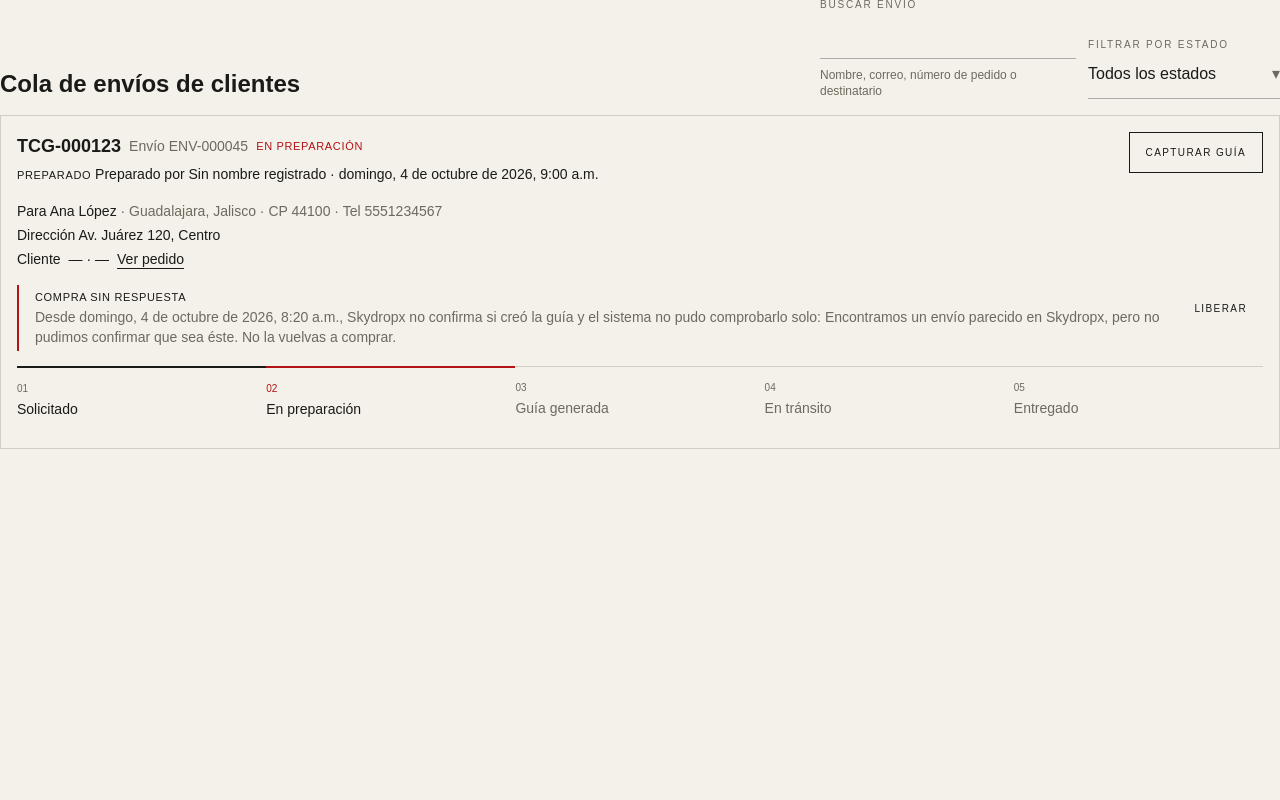
Test: UX-SDX-33 💰 · «Liberar» con los datos para cuadrar en el panel y la casilla de conflicto › la `<dl>` trae «Pedido ENV-000045-01», el precio de `priceCents` y el destinatario; ⛔ ni uuid ni teléfono
The image size is (1280, 800).
Click the button "Liberar" at (1221, 309), box [1178, 289, 1263, 329]
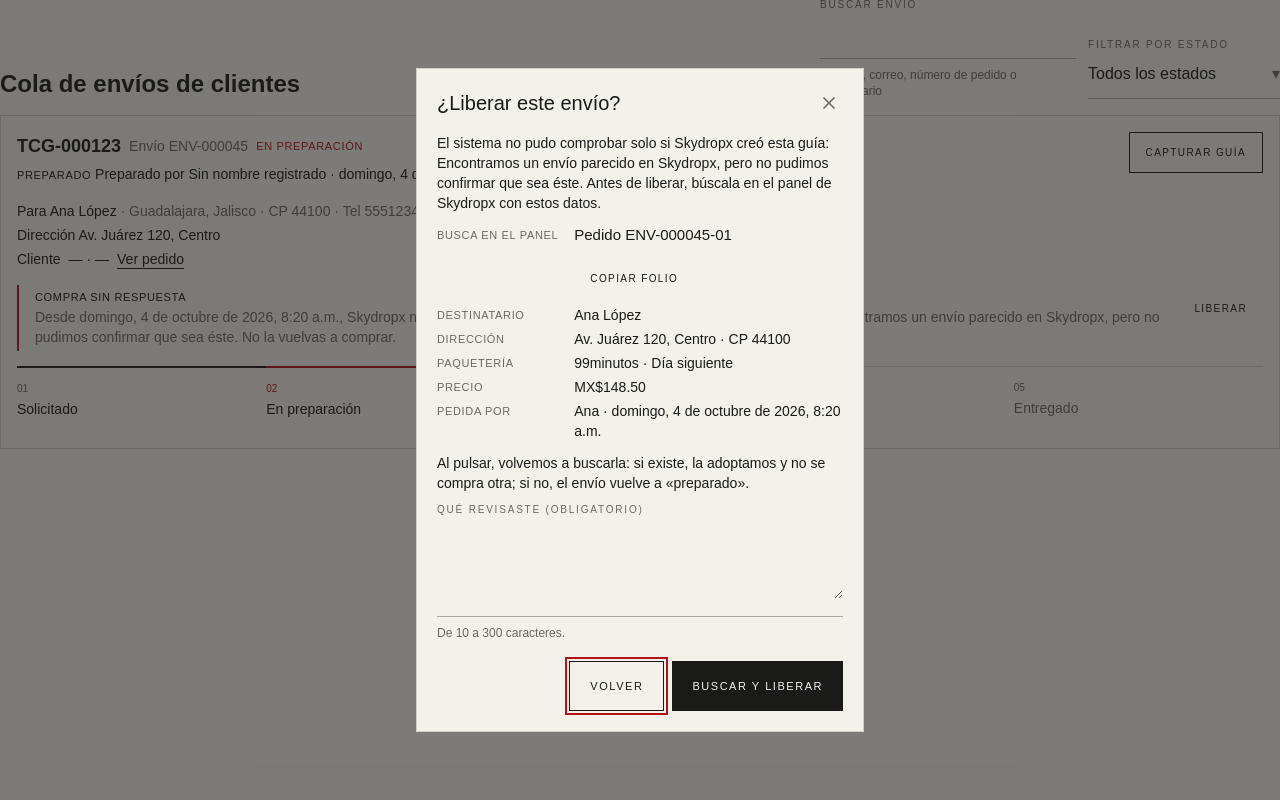
Expected: the element with test id "release-data" shows "Pedido ENV-000045-01", [574, 226, 732, 243]
Expected: the element with test id "release-data" shows "MX$148.50", [574, 379, 646, 395]
Expected: the element with test id "release-data" shows "Ana López", [574, 307, 641, 323]
